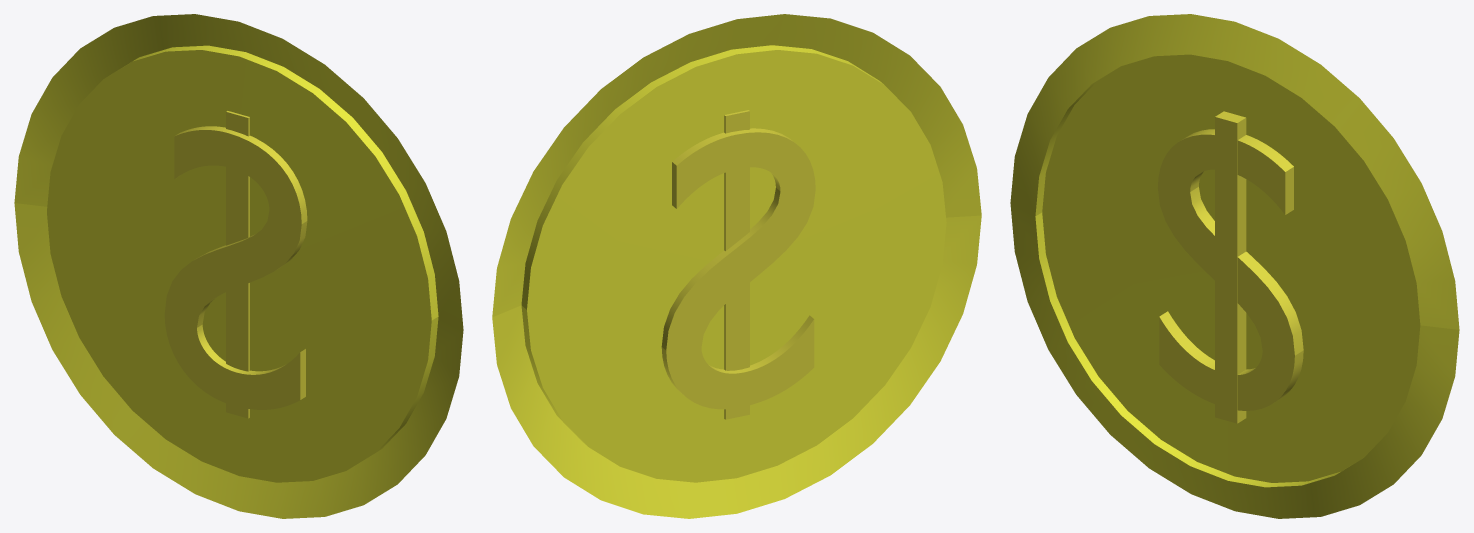
Rendered from coin.fbx.
3 views of the same model, side by side, from view 1: azimuth 90°, elevation 25°; view 2: azimuth 150°, elevation 25°; view 3: azimuth 270°, elevation 25° (orthographic).
Visible parts, largest first — view 1: Cube; view 2: Cube; view 3: Cube.
Part boxes in pixels (x1,y1,x2,y2): Cube: [14, 14, 463, 518]; Cube: [492, 14, 981, 518]; Cube: [1010, 14, 1459, 518].
Size of the model in its own units: 117 by 211 by 175.
